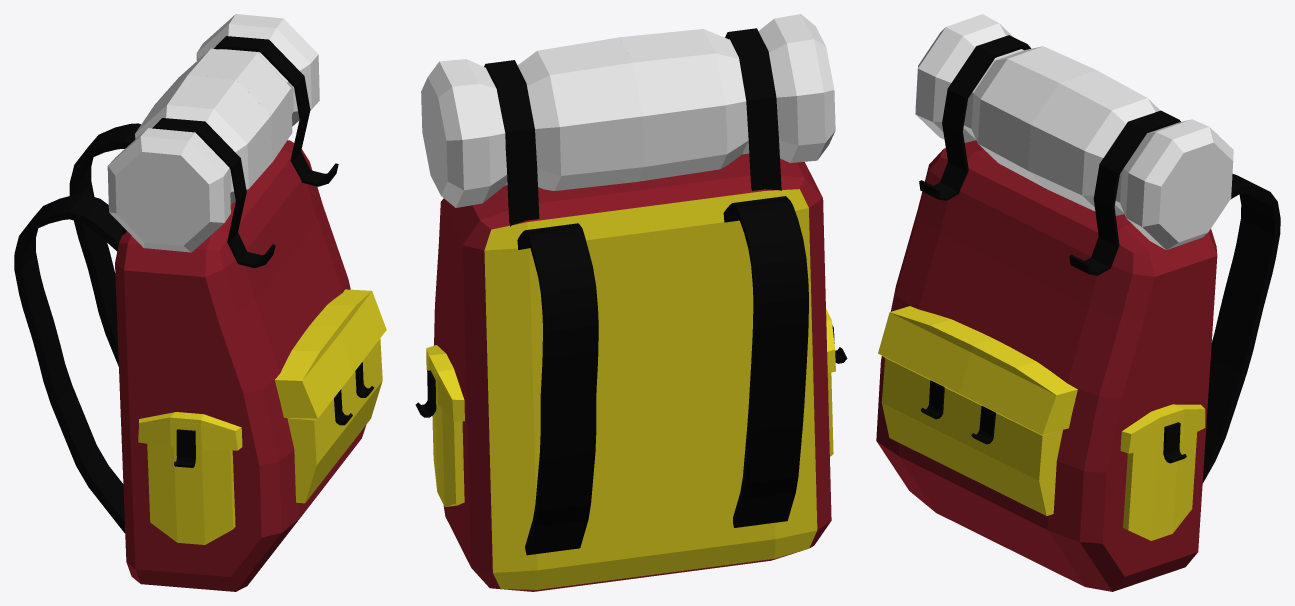
Rendered from Backpack.fbx.
3 views of the same model, side by side, from view 1: azimuth 30°, elevation 25°; view 2: azimuth 150°, elevation 25°; view 3: azimuth 270°, elevation 25° (orthographic). The views are drawn at different scales.
Parts seen in each view (by area): view 1: Backpack Body, Sleeping Bag, Backpack Straps, Front Pocket, Side Pocket, Sleeping Bag Straps, Side Pocket Strap, Front Pocket Strap; view 2: Backpack Body, Sleeping Bag, Backpack Straps, Sleeping Bag Straps, Side Pocket, Side Pocket Strap; view 3: Backpack Body, Sleeping Bag, Front Pocket, Backpack Straps, Sleeping Bag Straps, Side Pocket, Front Pocket Strap, Side Pocket Strap.
Part boxes in pixels (x1,y1,x2,y2): Backpack Body: (115, 140, 366, 591); Sleeping Bag: (107, 14, 319, 252); Backpack Straps: (14, 123, 140, 532); Front Pocket: (275, 289, 386, 503); Side Pocket: (138, 412, 242, 544); Sleeping Bag Straps: (122, 36, 338, 268); Side Pocket Strap: (174, 429, 195, 467); Front Pocket Strap: (334, 362, 374, 425); Backpack Body: (434, 153, 831, 591); Sleeping Bag: (421, 14, 835, 207); Backpack Straps: (517, 196, 808, 555); Sleeping Bag Straps: (484, 28, 781, 226); Side Pocket: (426, 309, 835, 506); Side Pocket Strap: (415, 325, 847, 417); Backpack Body: (876, 140, 1217, 591); Sleeping Bag: (915, 14, 1233, 249); Front Pocket: (878, 306, 1077, 515); Backpack Straps: (1202, 174, 1280, 483); Sleeping Bag Straps: (919, 35, 1180, 275); Side Pocket: (1120, 404, 1205, 540); Front Pocket Strap: (920, 380, 995, 444); Side Pocket Strap: (1163, 422, 1186, 463).
Bounding box in the file's own units: 49.16 × 65.01 × 50.62.
